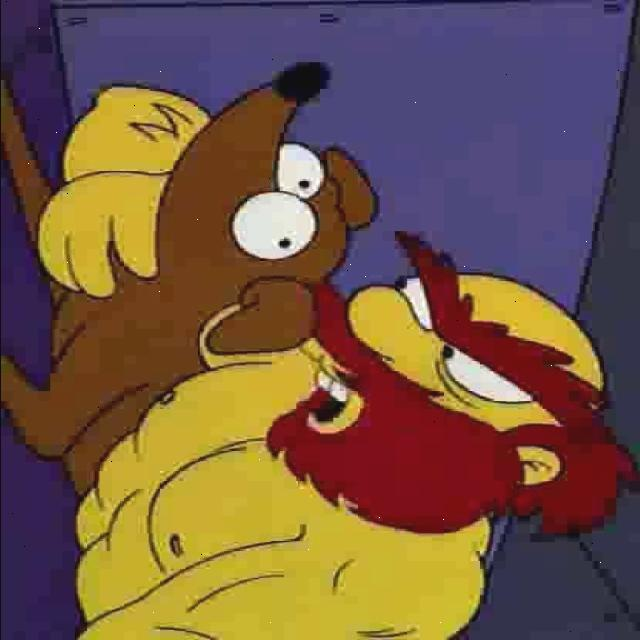Groundskeeper Willie: (263, 227, 640, 548)
